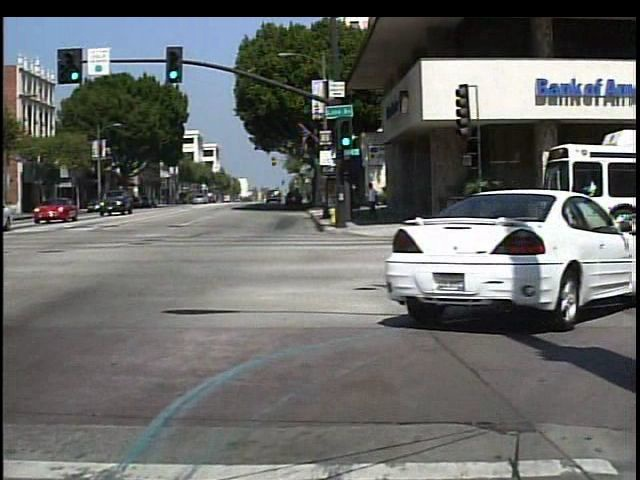person: (363, 181, 383, 220)
